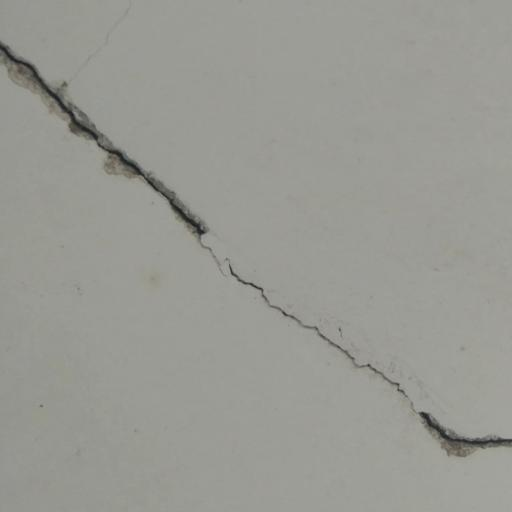major_crack: (0, 30, 512, 461)
